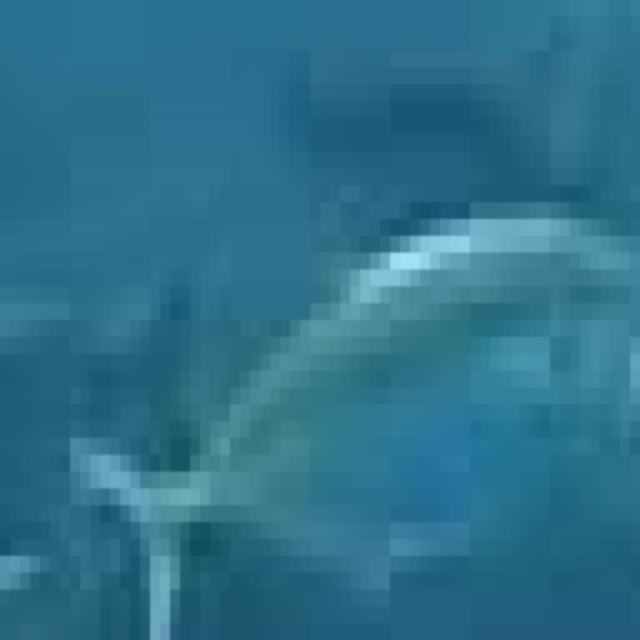fish: (10, 17, 640, 640)
